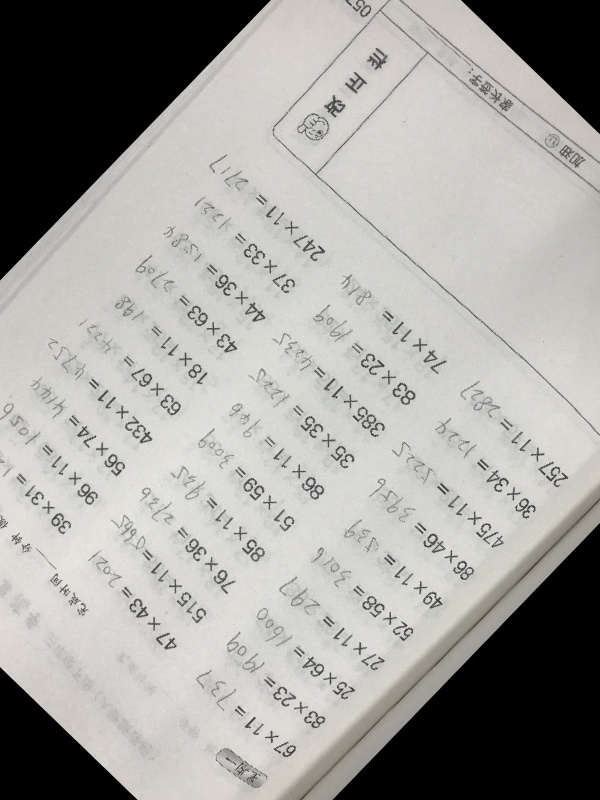equation: (211, 154, 322, 261), (393, 442, 503, 549), (273, 330, 383, 437), (45, 336, 155, 443), (337, 271, 444, 374), (431, 416, 537, 519), (459, 382, 565, 485), (247, 368, 353, 470), (369, 480, 474, 581), (163, 222, 267, 323), (136, 487, 239, 588), (108, 519, 210, 618), (0, 402, 100, 501), (193, 196, 294, 293), (315, 307, 416, 404), (138, 256, 239, 353), (81, 318, 181, 414), (281, 578, 380, 674), (27, 377, 126, 473), (226, 402, 325, 497), (200, 432, 298, 527), (313, 547, 410, 642), (170, 464, 267, 559), (84, 555, 182, 649), (226, 635, 323, 728), (197, 667, 293, 760), (256, 607, 352, 700), (346, 521, 440, 612), (115, 296, 207, 385), (0, 439, 71, 532)
